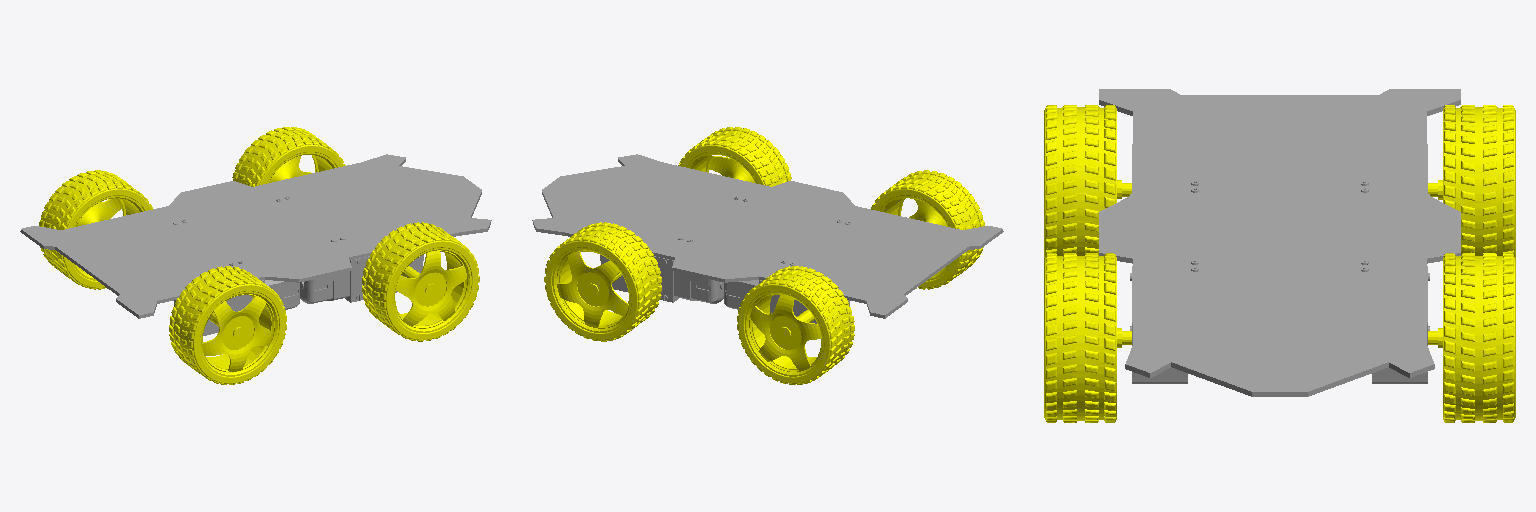
robot.urdf — pbot_assembly:
<?xml version="1.0" encoding="utf-8"?>
<!-- This URDF was automatically created by SolidWorks to URDF Exporter! Originally created by [author] ([email redacted]) 
     Commit Version: 1.6.0-4-g7f85cfe  Build Version: 1.6.7995.38578
     For more information, please see http://wiki.ros.org/sw_urdf_exporter -->
<robot
  name="pbot_assembly">
  <link
    name="pbot_base">
    <inertial>
      <origin
        xyz="-0.0126793836830341 4.44350410814448E-10 -0.00681296059112218"
        rpy="0 0 0" />
      <mass
        value="0.28831638977324" />
      <inertia
        ixx="0.000131169085410887"
        ixy="-4.3600054751417E-15"
        ixz="9.31897878301522E-06"
        iyy="0.000567748496773017"
        iyz="-9.53741865535676E-15"
        izz="0.000682526229970573" />
    </inertial>
    <visual>
      <origin
        xyz="0 0 0"
        rpy="0 0 0" />
      <geometry>
        <mesh
          filename="package://pbot_assembly/meshes/pbot_base.STL" />
      </geometry>
      <material
        name="">
        <color
          rgba="0.698039215686274 0.698039215686274 0.698039215686274 1" />
      </material>
    </visual>
    <collision>
      <origin
        xyz="0 0 0"
        rpy="0 0 0" />
      <geometry>
        <mesh
          filename="package://pbot_assembly/meshes/pbot_base.STL" />
      </geometry>
    </collision>
  </link>
  <link
    name="pbot_rf_w">
    <inertial>
      <origin
        xyz="2.9058E-11 0.00027973 5.9298E-10"
        rpy="0 0 0" />
      <mass
        value="0.030238" />
      <inertia
        ixx="1.157E-05"
        ixy="7.6572E-15"
        ixz="-8.7242E-14"
        iyy="1.9609E-05"
        iyz="-1.3863E-13"
        izz="1.157E-05" />
    </inertial>
    <visual>
      <origin
        xyz="0 0 0"
        rpy="0 0 0" />
      <geometry>
        <mesh
          filename="package://pbot_assembly/meshes/pbot_rf_w.STL" />
      </geometry>
      <material
        name="">
        <color
          rgba="1 1 0 1" />
      </material>
    </visual>
    <collision>
      <origin
        xyz="0 0 0"
        rpy="0 0 0" />
      <geometry>
        <mesh
          filename="package://pbot_assembly/meshes/pbot_rf_w.STL" />
      </geometry>
    </collision>
  </link>
  <joint
    name="pbot_rf_w_to_base"
    type="continuous">
    <origin
      xyz="0.045046 -0.0705 -0.013263"
      rpy="0 0.016895 0" />
    <parent
      link="pbot_base" />
    <child
      link="pbot_rf_w" />
    <axis
      xyz="0 1 0" />
  </joint>
  <link
    name="pbot_rr_w">
    <inertial>
      <origin
        xyz="5.388E-10 0.00027973 5.4071E-10"
        rpy="0 0 0" />
      <mass
        value="0.030238" />
      <inertia
        ixx="1.157E-05"
        ixy="-1.3445E-13"
        ixz="-3.6496E-14"
        iyy="1.9609E-05"
        iyz="-1.236E-13"
        izz="1.157E-05" />
    </inertial>
    <visual>
      <origin
        xyz="0 0 0"
        rpy="0 0 0" />
      <geometry>
        <mesh
          filename="package://pbot_assembly/meshes/pbot_rr_w.STL" />
      </geometry>
      <material
        name="">
        <color
          rgba="1 1 0 1" />
      </material>
    </visual>
    <collision>
      <origin
        xyz="0 0 0"
        rpy="0 0 0" />
      <geometry>
        <mesh
          filename="package://pbot_assembly/meshes/pbot_rr_w.STL" />
      </geometry>
    </collision>
  </link>
  <joint
    name="pbot_rr_w_to_base"
    type="continuous">
    <origin
      xyz="-0.074937 -0.0705 -0.011236"
      rpy="0 0.016895 0" />
    <parent
      link="pbot_base" />
    <child
      link="pbot_rr_w" />
    <axis
      xyz="0 1 0" />
  </joint>
  <link
    name="pbot_lf_w">
    <inertial>
      <origin
        xyz="2.2904E-10 -0.00027973 -1.3045E-10"
        rpy="0 0 0" />
      <mass
        value="0.030238" />
      <inertia
        ixx="1.157E-05"
        ixy="6.3103E-14"
        ixz="-1.9026E-14"
        iyy="1.9609E-05"
        iyz="-5.1829E-14"
        izz="1.157E-05" />
    </inertial>
    <visual>
      <origin
        xyz="0 0 0"
        rpy="0 0 0" />
      <geometry>
        <mesh
          filename="package://pbot_assembly/meshes/pbot_lf_w.STL" />
      </geometry>
      <material
        name="">
        <color
          rgba="1 1 0 1" />
      </material>
    </visual>
    <collision>
      <origin
        xyz="0 0 0"
        rpy="0 0 0" />
      <geometry>
        <mesh
          filename="package://pbot_assembly/meshes/pbot_lf_w.STL" />
      </geometry>
    </collision>
  </link>
  <joint
    name="pbot_lf_w_to_base"
    type="continuous">
    <origin
      xyz="0.045046 0.0705 -0.013263"
      rpy="0 0.016895 0" />
    <parent
      link="pbot_base" />
    <child
      link="pbot_lf_w" />
    <axis
      xyz="0 -1 0" />
  </joint>
  <link
    name="pbot_lr_w">
    <inertial>
      <origin
        xyz="-1.3858E-10 -0.00027973 1.3827E-10"
        rpy="0 0 0" />
      <mass
        value="0.030238" />
      <inertia
        ixx="1.157E-05"
        ixy="-3.977E-14"
        ixz="5.9664E-14"
        iyy="1.9609E-05"
        iyz="1.6868E-14"
        izz="1.157E-05" />
    </inertial>
    <visual>
      <origin
        xyz="0 0 0"
        rpy="0 0 0" />
      <geometry>
        <mesh
          filename="package://pbot_assembly/meshes/pbot_lr_w.STL" />
      </geometry>
      <material
        name="">
        <color
          rgba="1 1 0 1" />
      </material>
    </visual>
    <collision>
      <origin
        xyz="0 0 0"
        rpy="0 0 0" />
      <geometry>
        <mesh
          filename="package://pbot_assembly/meshes/pbot_lr_w.STL" />
      </geometry>
    </collision>
  </link>
  <joint
    name="pbot_lr_w_to_base"
    type="continuous">
    <origin
      xyz="-0.074937 0.0705 -0.011236"
      rpy="0 0.016895 0" />
    <parent
      link="pbot_base" />
    <child
      link="pbot_lr_w" />
    <axis
      xyz="0 -1 0" />
  </joint>
</robot>

--- Render facts (derived) ---
The picture shows the robot from 3 angles, left to right: view 1: azimuth 30°, elevation 25°; view 2: azimuth 150°, elevation 25°; view 3: azimuth 270°, elevation 25°; orthographic projection.
Robot: pbot_assembly — 5 links, 4 joints (4 continuous); root link pbot_base; default pose: every joint at zero.
Links seen in each view (by area): view 1: pbot_base, pbot_rf_w, pbot_rr_w, pbot_lr_w, pbot_lf_w; view 2: pbot_base, pbot_lr_w, pbot_lf_w, pbot_rr_w, pbot_rf_w; view 3: pbot_base, pbot_rf_w, pbot_lf_w, pbot_lr_w, pbot_rr_w.
Link boxes in pixels (box(x1,y1,x2,y2)): pbot_base: box(20, 154, 491, 335); pbot_rf_w: box(362, 222, 479, 341); pbot_rr_w: box(169, 266, 286, 384); pbot_lr_w: box(39, 170, 152, 289); pbot_lf_w: box(232, 127, 345, 186); pbot_base: box(532, 154, 1003, 323); pbot_lr_w: box(737, 266, 854, 384); pbot_lf_w: box(544, 222, 661, 341); pbot_rr_w: box(871, 170, 984, 289); pbot_rf_w: box(678, 127, 791, 186); pbot_base: box(1099, 89, 1460, 396); pbot_rf_w: box(1044, 253, 1131, 422); pbot_lf_w: box(1428, 253, 1515, 422); pbot_lr_w: box(1428, 105, 1515, 257); pbot_rr_w: box(1044, 105, 1131, 257).
Bounding box of the posed robot: 0.245 × 0.1668 × 0.0623 m (x, y, z).
5 mesh visuals loaded from 5 distinct referenced files (5 binary STL).